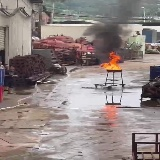fire: (100, 52, 122, 70)
